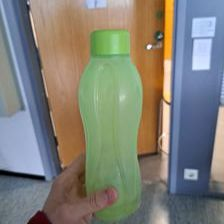bottle: (83, 27, 144, 221)
